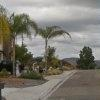Palm tree: (7, 6, 62, 69)
